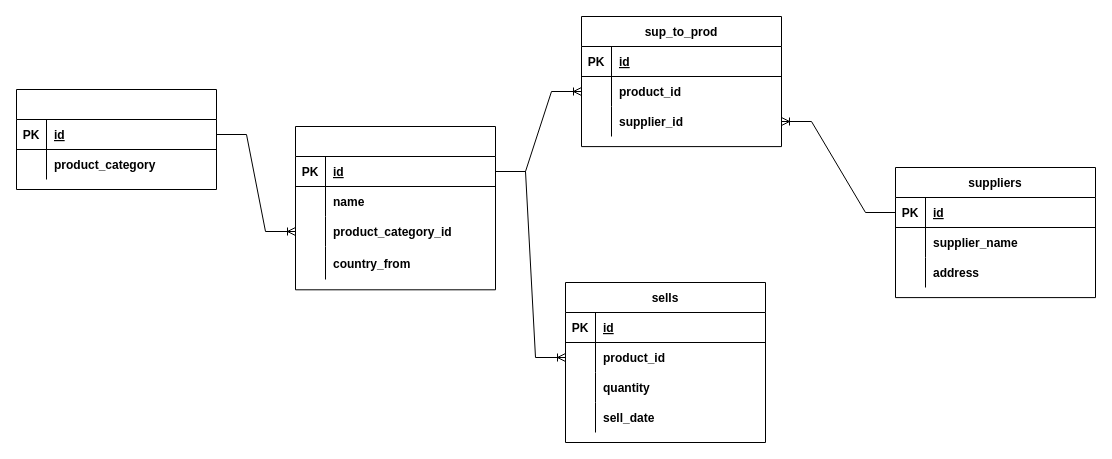
This 1112x459 diagram has some shape labels left out. Each missing label, with the box of its shape:
product_categories: (16, 88, 216, 190)
products: (294, 126, 496, 290)
